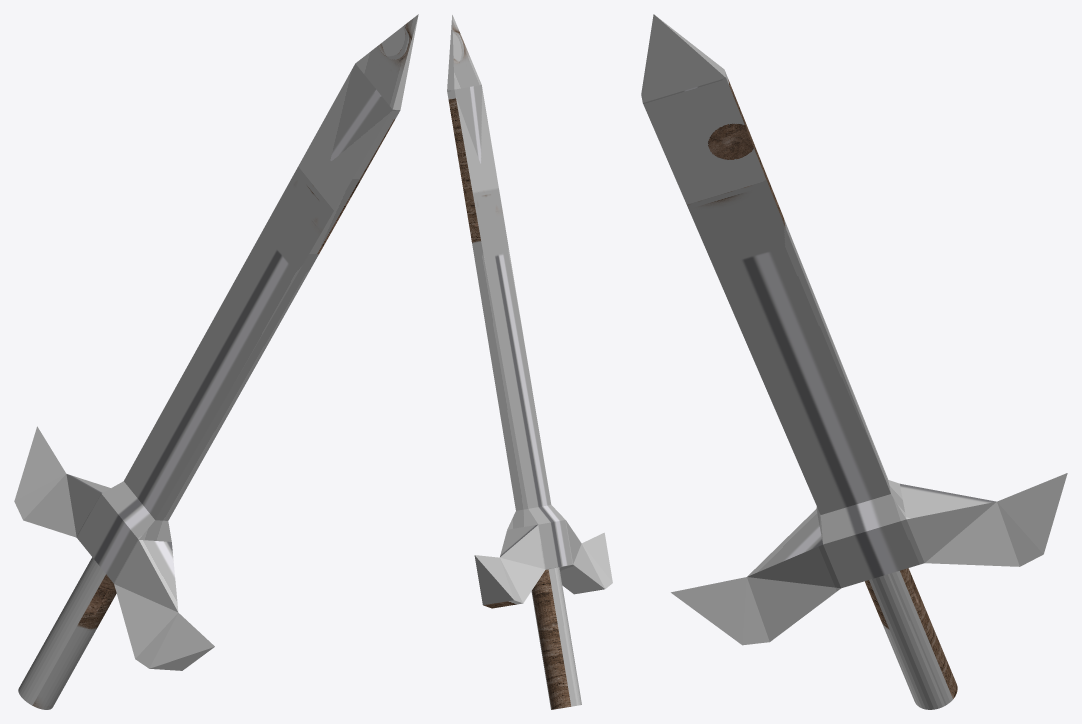
The model's file is Protagonista13.obj.
3 views of the same model, side by side, from view 1: azimuth 30°, elevation 25°; view 2: azimuth 150°, elevation 25°; view 3: azimuth 270°, elevation 25° (orthographic). The views are drawn at different scales.
Parts seen in each view (by area): view 1: Cube; view 2: Cube; view 3: Cube.
Boxes of the visible parts, x1,y1,x2,y2 form: Cube: (14, 14, 418, 709); Cube: (447, 15, 612, 709); Cube: (641, 14, 1067, 709).
Size of the model in its own units: 0.6443 by 1.58 by 0.731.
1 material, 1 textured.
